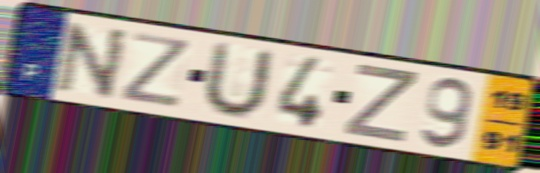4: (274, 54, 327, 131)
9: (418, 75, 474, 150)
N: (53, 20, 132, 102)
U: (197, 38, 277, 121)
Z: (340, 61, 421, 146), (117, 30, 194, 111)
